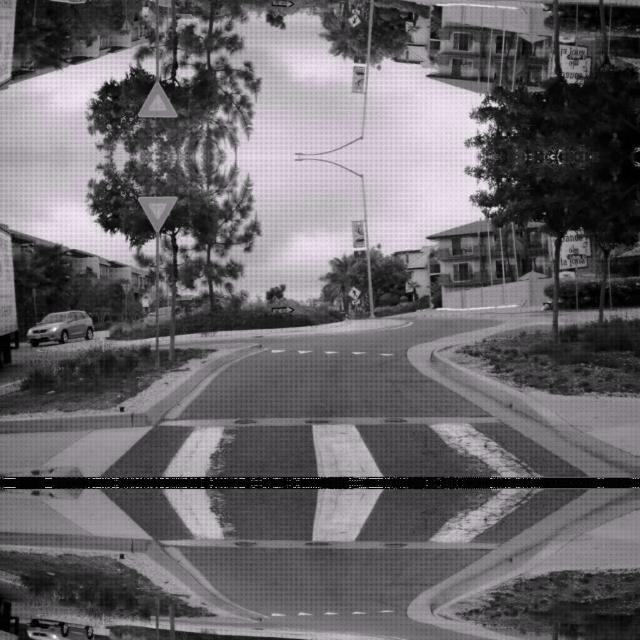pedestrianCrossing: (348, 285, 360, 299), (348, 13, 360, 27)
yield: (137, 195, 177, 231), (137, 81, 177, 117)
